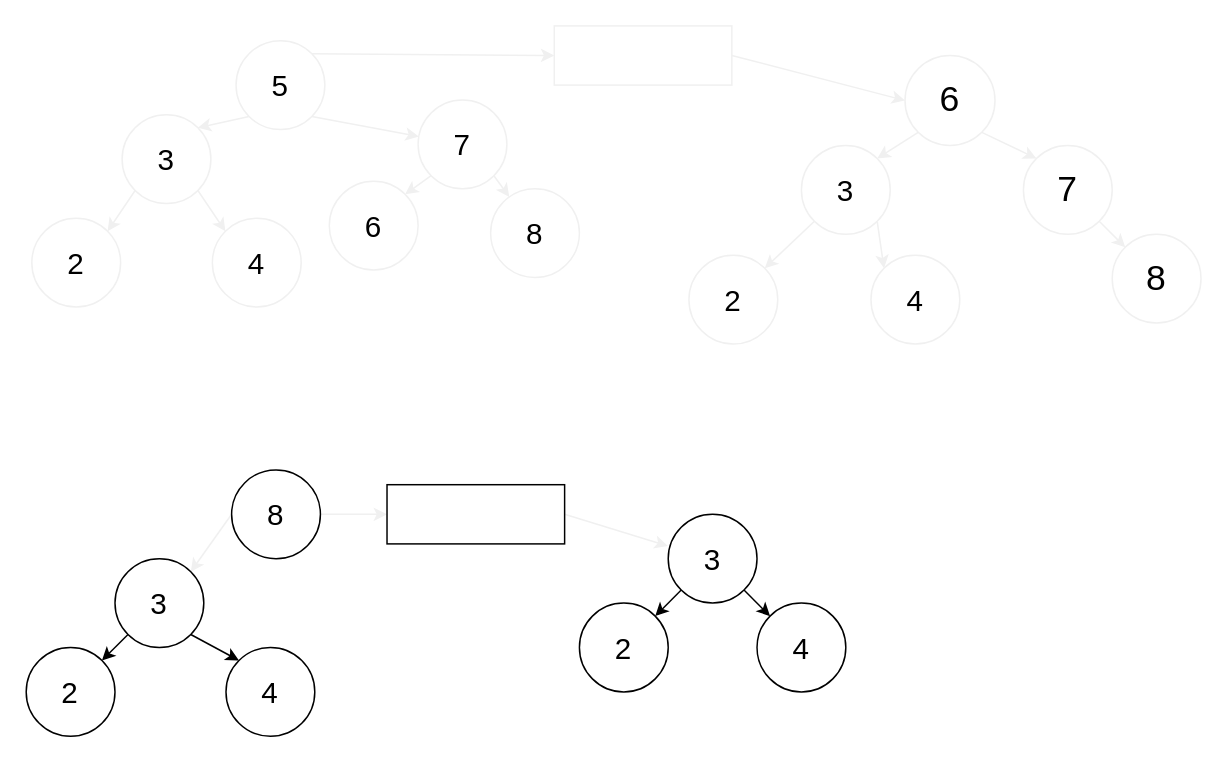
The diagram is 1227 pixels wide and 762 high, and some of its shapes have lost their labels. The shapes that lost their labels are listed below. From the top down, each one's centre as x and y in pixels, then its label:
At pixel 642 54: "delete(5)".
At pixel 475 513: "delete(8)".
